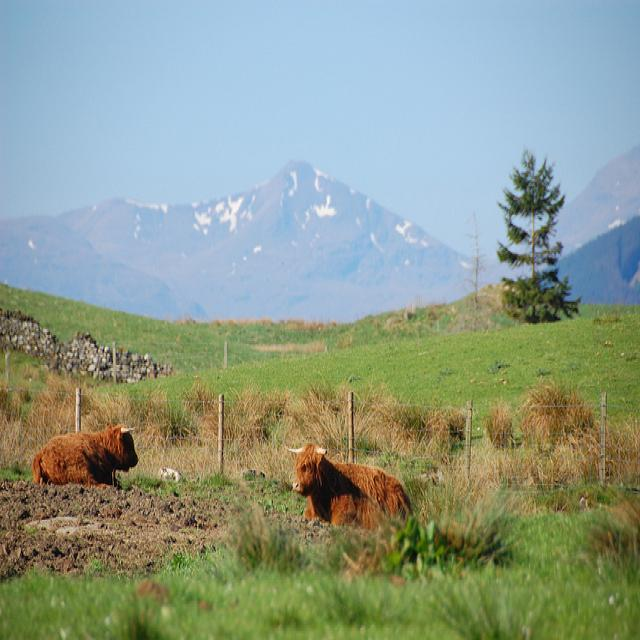cow: (286, 440, 411, 529), (31, 418, 139, 487)
